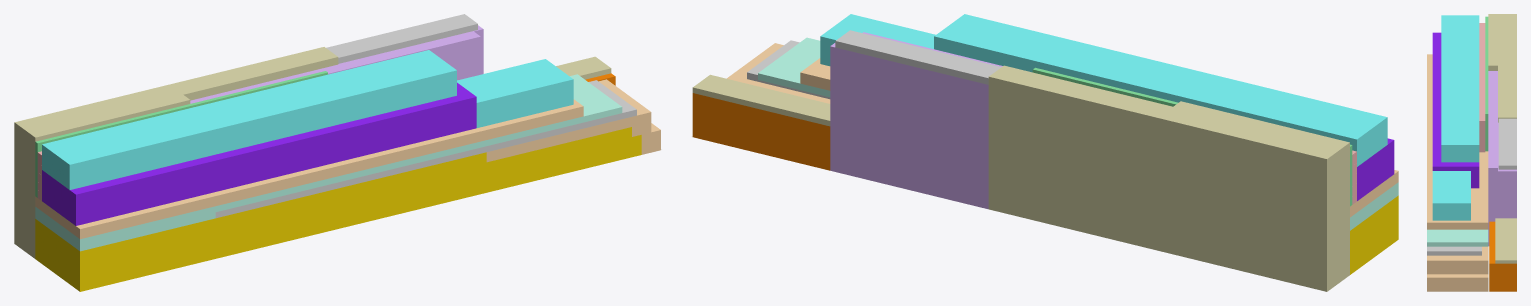
The picture shows the model from 3 angles, left to right: view 1: azimuth 30°, elevation 25°; view 2: azimuth 150°, elevation 25°; view 3: azimuth 270°, elevation 25°; orthographic projection. The views are drawn at different scales.
Parts seen in each view (by area): view 1: <组件#7> (×10), <组件#19> (×10), <组件#64> (×5), <组件#61> (×5), <组件#79> (×5), <组件#75> (×5), <组件#29> (×5), <组件#78> (×4), <组件#60> (×3), <组件#80> (×2); view 2: <组件#79> (×19), <组件#60> (×9), <组件#7> (×10), <组件#77> (×10), <组件#78> (×6), <组件#19>, <组件#37> (×2), <组件#80>, <组件#29>, <组件#61>; view 3: <组件#7> (×10), <组件#79> (×5), <组件#61> (×12), <组件#60> (×17), <组件#19> (×10), <组件#62> (×16), <组件#78> (×6), <组件#91> (×8), <组件#80> (×2), <组件#77>, Group.
Part boxes in pixels (x1,y1,x2,y2): <组件#7> (×10): [42, 50, 573, 189]; <组件#19> (×10): [42, 82, 476, 225]; <组件#64> (×5): [74, 135, 641, 291]; <组件#61> (×5): [74, 102, 612, 239]; <组件#79> (×5): [14, 47, 338, 152]; <组件#75> (×5): [74, 127, 631, 261]; <组件#29> (×5): [78, 105, 622, 251]; <组件#78> (×4): [215, 22, 636, 218]; <组件#60> (×3): [190, 31, 480, 103]; <组件#80> (×2): [35, 71, 327, 149]; <组件#79> (×19): [988, 65, 1349, 291]; <组件#60> (×9): [830, 43, 988, 209]; <组件#7> (×10): [820, 14, 1387, 166]; <组件#77> (×10): [692, 93, 830, 170]; <组件#78> (×6): [835, 30, 1001, 84]; <组件#19>: [1357, 138, 1394, 200]; <组件#37> (×2): [692, 87, 830, 126]; <组件#80>: [1032, 67, 1178, 106]; <组件#29>: [758, 71, 830, 97]; <组件#61>: [800, 68, 830, 90]; <组件#7> (×10): [1432, 15, 1479, 220]; <组件#79> (×5): [1488, 14, 1516, 122]; <组件#61> (×12): [1427, 54, 1488, 229]; <组件#60> (×17): [1488, 71, 1516, 219]; <组件#19> (×10): [1432, 32, 1479, 188]; <组件#62> (×16): [1427, 254, 1488, 284]; <组件#78> (×6): [1498, 118, 1516, 169]; <组件#91> (×8): [1479, 23, 1485, 121]; <组件#80> (×2): [1485, 16, 1488, 117]; <组件#77>: [1489, 221, 1496, 266]; Group: [1427, 246, 1516, 291].
Size of the model in its own units: 12.03 by 2.4 by 2.35.
